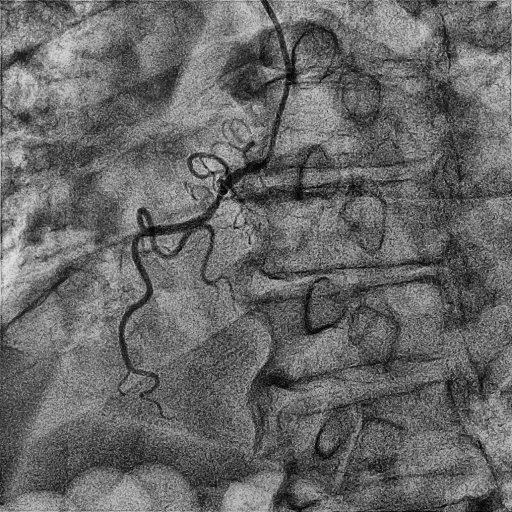rca: (119, 163, 254, 419)
